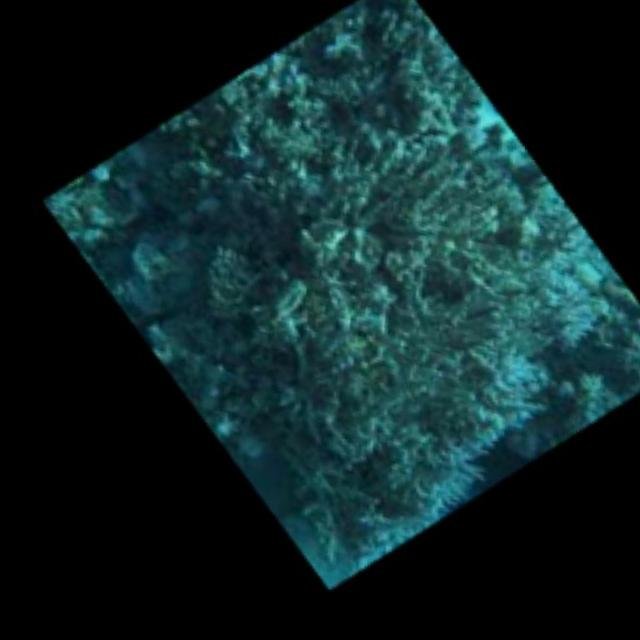Dead Coral: (155, 107, 590, 577)
